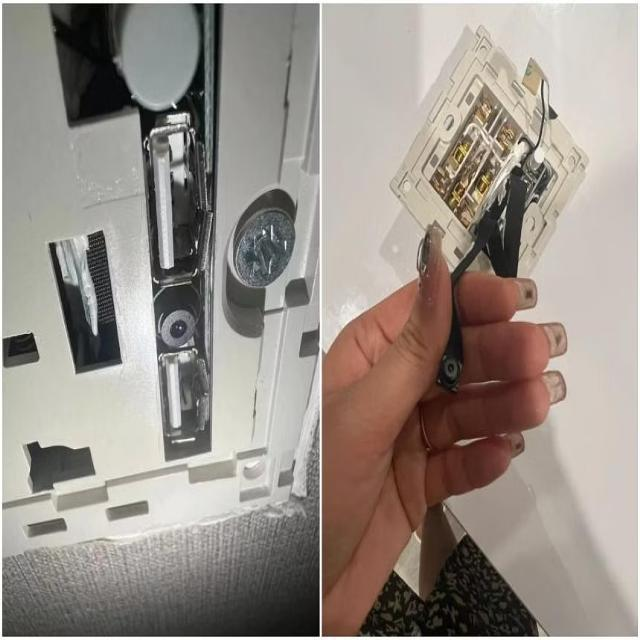hidden camera: (170, 315, 188, 345), (445, 357, 460, 380)
